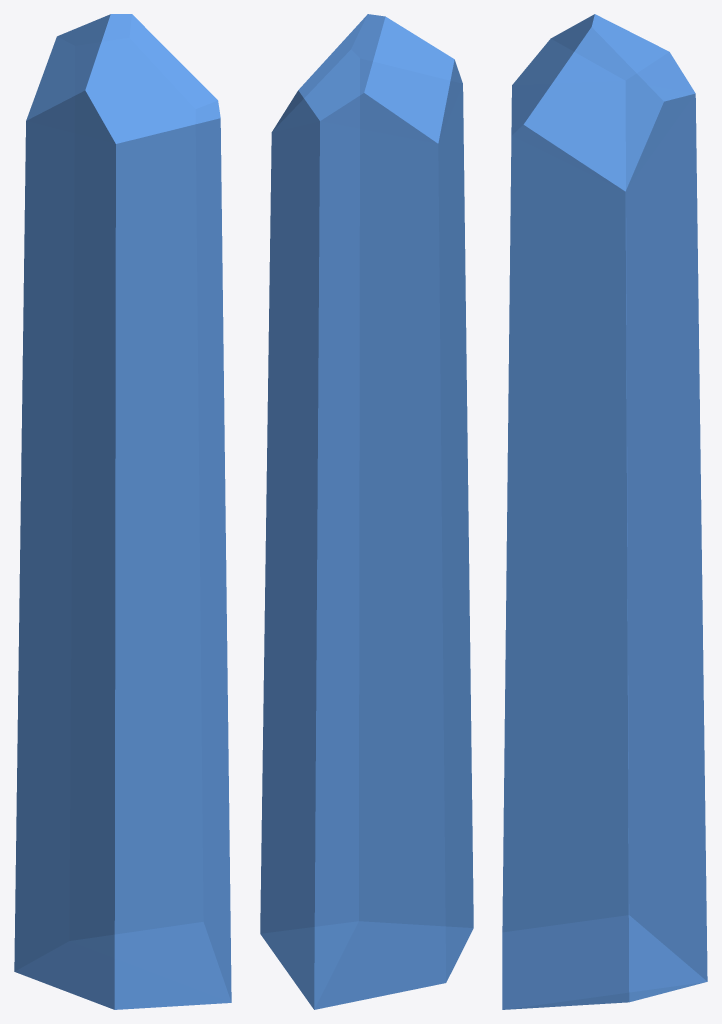
Rendered from Crystal_s_05.fbx.
3 views of the same model, side by side, from view 1: azimuth 30°, elevation 25°; view 2: azimuth 150°, elevation 25°; view 3: azimuth 270°, elevation 25° (orthographic).
Parts seen in each view (by area): view 1: Crystal_s_05; view 2: Crystal_s_05; view 3: Crystal_s_05.
Boxes of the visible parts, x1,y1,x2,y2 form: Crystal_s_05: (14, 14, 231, 1009); Crystal_s_05: (260, 14, 473, 1009); Crystal_s_05: (502, 14, 707, 1009).
Size of the model in its own units: 0.1819 by 0.8935 by 0.173.
